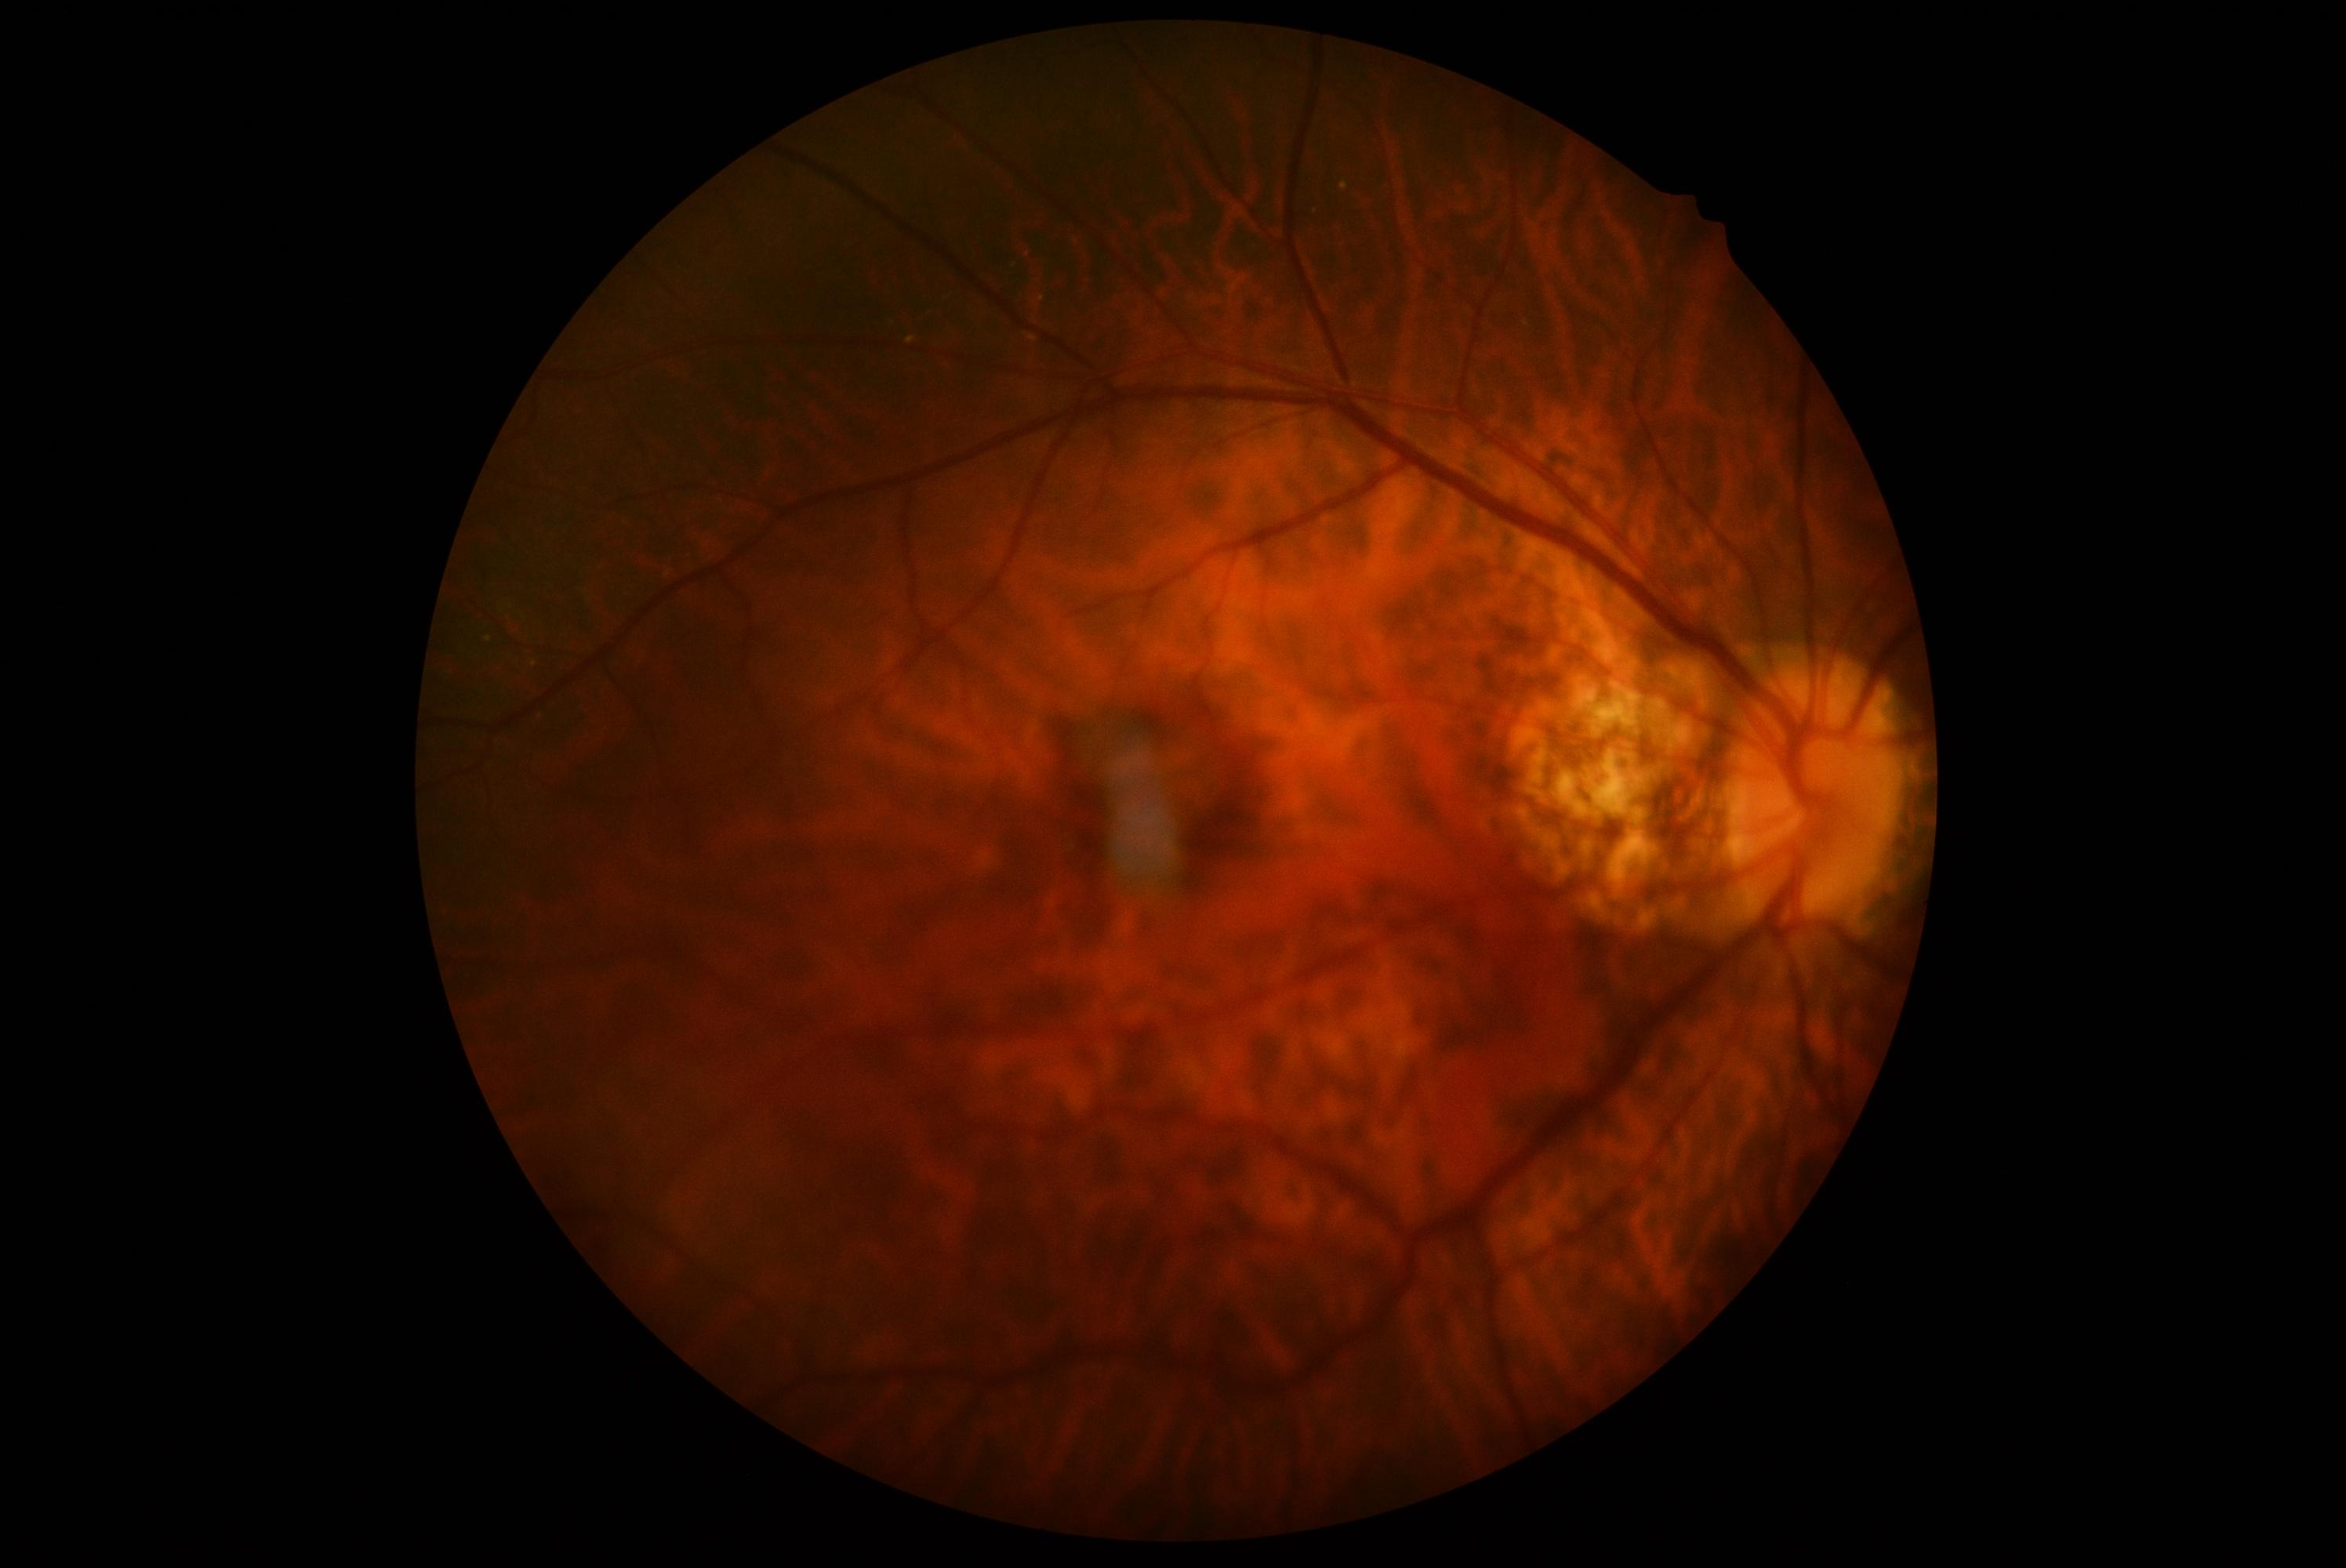Fovea: (1074, 740, 1232, 901)
